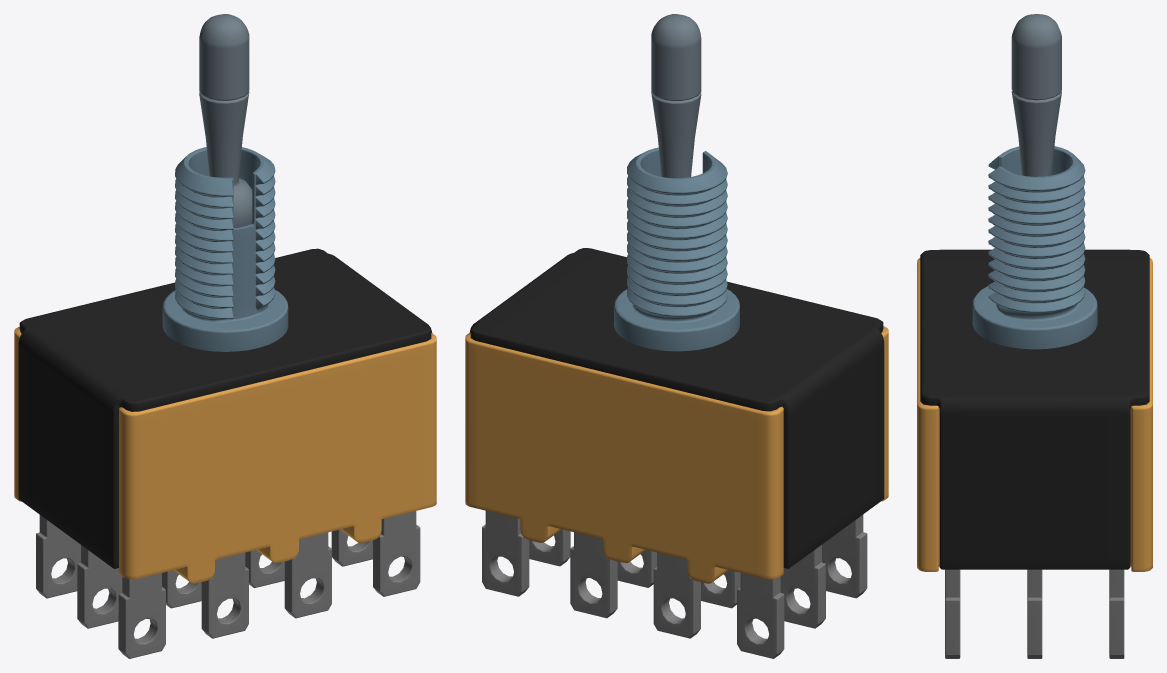
3 renders of one model, left to right at view 1: azimuth 30°, elevation 25°; view 2: azimuth 150°, elevation 25°; view 3: azimuth 270°, elevation 25°, orthographic.
Visible parts, largest first — view 1: housing_mesh, cover_mesh.001, thread_mesh, actuator_mesh.001, prong_001_mesh, prong_004_mesh, prong_002_mesh, prong_003_mesh, prong_005_mesh, prong_009_mesh, prong_008_mesh, prong_006_mesh (+1 smaller); view 2: housing_mesh, cover_mesh.001, thread_mesh, actuator_mesh.001, prong_009_mesh, prong_012_mesh, prong_010_mesh, prong_011_mesh, prong_001_mesh, prong_005_mesh, prong_008_mesh, prong_007_mesh (+1 smaller); view 3: cover_mesh.001, thread_mesh, housing_mesh, actuator_mesh.001, prong_012_mesh, prong_004_mesh, prong_008_mesh.
Boxes of the visible parts, x1,y1,x2,y2 form: housing_mesh: (14, 327, 436, 583); cover_mesh.001: (18, 248, 432, 568); thread_mesh: (162, 147, 288, 351); actuator_mesh.001: (199, 14, 252, 227); prong_001_mesh: (118, 573, 165, 658); prong_004_mesh: (373, 511, 420, 596); prong_002_mesh: (201, 552, 248, 638); prong_003_mesh: (284, 532, 331, 618); prong_005_mesh: (77, 545, 122, 628); prong_009_mesh: (36, 515, 80, 598); prong_008_mesh: (331, 529, 372, 566); prong_006_mesh: (162, 570, 201, 608); housing_mesh: (465, 326, 888, 583); cover_mesh.001: (469, 248, 884, 568); thread_mesh: (614, 147, 739, 351); actuator_mesh.001: (651, 14, 701, 178); prong_009_mesh: (737, 573, 784, 658); prong_012_mesh: (482, 511, 529, 596); prong_010_mesh: (653, 552, 700, 638); prong_011_mesh: (570, 532, 617, 618); prong_001_mesh: (822, 514, 867, 598); prong_005_mesh: (780, 545, 825, 628); prong_008_mesh: (529, 529, 570, 566); prong_007_mesh: (617, 550, 657, 587); cover_mesh.001: (920, 249, 1149, 569); thread_mesh: (972, 146, 1097, 349); housing_mesh: (917, 258, 1152, 571); actuator_mesh.001: (1011, 14, 1061, 176); prong_012_mesh: (1109, 569, 1124, 658); prong_004_mesh: (945, 569, 960, 658); prong_008_mesh: (1027, 569, 1042, 658).
Bounding box in the file's own units: 6.79 × 11.66 × 4.36.
